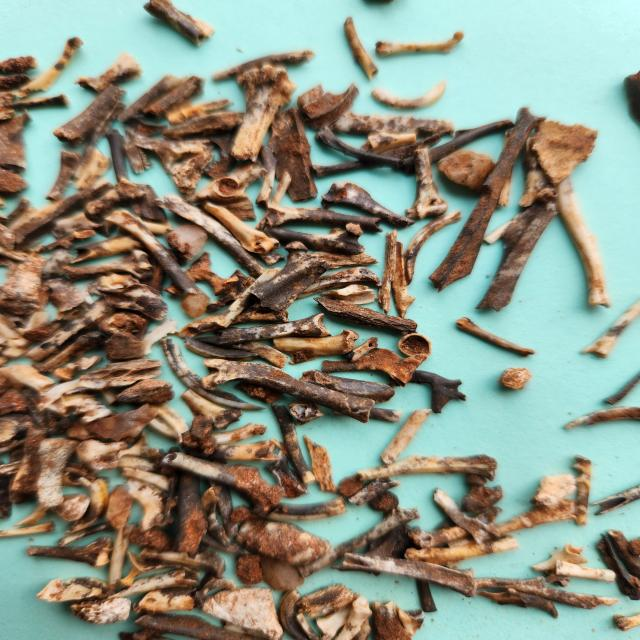fossil: (424, 99, 544, 299), (199, 356, 379, 426), (476, 187, 562, 316), (550, 169, 623, 313), (152, 192, 268, 278), (294, 503, 425, 579), (159, 447, 283, 518), (102, 207, 200, 295), (159, 336, 269, 412), (392, 116, 518, 177), (0, 362, 121, 423), (308, 127, 452, 178), (245, 239, 336, 318), (443, 497, 580, 549), (229, 62, 298, 162), (10, 177, 114, 243), (38, 357, 166, 410), (23, 296, 122, 364), (189, 414, 244, 536), (341, 551, 477, 597), (467, 575, 624, 611), (526, 114, 602, 186), (264, 105, 318, 203), (314, 123, 418, 173), (197, 583, 288, 640), (328, 520, 418, 577), (314, 346, 432, 389), (238, 516, 334, 568), (10, 34, 88, 98), (320, 180, 417, 231), (402, 208, 465, 286), (311, 293, 420, 338), (351, 452, 504, 484), (427, 485, 504, 546), (71, 100, 128, 182), (51, 83, 126, 145), (175, 425, 209, 561), (212, 311, 332, 348), (576, 292, 640, 361), (213, 266, 283, 328), (133, 607, 264, 640), (405, 505, 502, 549), (83, 272, 168, 322), (180, 158, 272, 204), (114, 71, 193, 124), (138, 0, 220, 51), (210, 47, 318, 85), (265, 201, 389, 234), (172, 307, 292, 341), (157, 252, 242, 300), (263, 221, 373, 258), (324, 110, 461, 139), (83, 400, 162, 450), (206, 200, 280, 253), (454, 315, 538, 361), (270, 401, 316, 485), (130, 132, 214, 178), (295, 368, 399, 405), (400, 147, 450, 223), (0, 249, 54, 319), (195, 483, 246, 557), (6, 424, 52, 506), (401, 367, 476, 417), (32, 433, 80, 510), (182, 334, 288, 368), (18, 296, 96, 342), (115, 549, 204, 589), (402, 534, 527, 562), (272, 327, 361, 366), (593, 530, 640, 603), (60, 248, 155, 284), (379, 407, 435, 468), (435, 144, 498, 198), (102, 569, 202, 603), (24, 534, 118, 570), (35, 328, 108, 374), (75, 49, 146, 96), (367, 76, 453, 114), (339, 12, 384, 84), (300, 79, 362, 131), (290, 265, 382, 300), (139, 544, 228, 580), (139, 74, 207, 121), (124, 476, 179, 534), (258, 491, 352, 524), (372, 30, 468, 62), (20, 382, 75, 436), (251, 169, 294, 238), (177, 386, 241, 432), (159, 110, 251, 142), (474, 587, 560, 621), (0, 306, 49, 364), (63, 474, 109, 535), (515, 129, 550, 209), (67, 231, 147, 266), (104, 520, 140, 597), (293, 582, 362, 619), (277, 584, 322, 640), (203, 268, 256, 314), (166, 154, 214, 204), (559, 405, 640, 434), (130, 584, 199, 618), (567, 451, 597, 529), (82, 179, 142, 218), (454, 472, 508, 515), (66, 594, 134, 628), (528, 468, 582, 510), (302, 433, 339, 494), (143, 401, 194, 445), (199, 127, 238, 184), (125, 179, 172, 226), (0, 110, 35, 173), (30, 574, 108, 602), (102, 479, 140, 536), (393, 240, 419, 322), (184, 334, 260, 362), (213, 436, 286, 465), (527, 540, 591, 573), (346, 474, 404, 510), (376, 222, 398, 316), (331, 397, 404, 425), (258, 552, 309, 592), (44, 148, 81, 203), (334, 590, 374, 640), (165, 221, 210, 264), (369, 598, 415, 640), (166, 97, 235, 125), (478, 212, 533, 247), (74, 145, 114, 193), (10, 491, 58, 530), (160, 444, 183, 525), (301, 246, 382, 269), (115, 376, 177, 406), (586, 484, 640, 518), (40, 276, 92, 311), (106, 124, 134, 189), (71, 438, 124, 472), (267, 458, 312, 498), (49, 210, 107, 241), (0, 89, 71, 114), (316, 598, 357, 640), (187, 572, 237, 606), (605, 526, 640, 574), (234, 376, 290, 406), (29, 229, 98, 253), (193, 198, 256, 224), (96, 310, 152, 339), (208, 420, 270, 446), (136, 317, 179, 354), (45, 490, 93, 523), (554, 559, 617, 584), (102, 328, 148, 362), (56, 520, 116, 546), (254, 143, 278, 208), (599, 369, 640, 407), (314, 283, 378, 307), (619, 65, 640, 138), (115, 430, 166, 460), (121, 134, 155, 179), (36, 246, 77, 283), (119, 465, 178, 490), (229, 552, 268, 589), (126, 523, 177, 551), (357, 131, 419, 154), (116, 114, 170, 140), (51, 354, 103, 380), (0, 520, 61, 542), (413, 573, 444, 615), (0, 410, 37, 444), (394, 332, 437, 360), (344, 335, 384, 364), (360, 488, 404, 514), (495, 154, 516, 208), (393, 602, 427, 635), (111, 450, 162, 472), (495, 366, 535, 394), (131, 216, 179, 238), (180, 286, 214, 317), (288, 400, 325, 427), (0, 90, 32, 121), (0, 196, 30, 229), (20, 388, 45, 427), (293, 608, 323, 640), (296, 80, 328, 110), (0, 52, 44, 73), (0, 167, 34, 194), (540, 566, 577, 588), (0, 386, 28, 415), (336, 470, 365, 497), (611, 609, 640, 635), (227, 500, 258, 524), (0, 433, 36, 453), (0, 73, 44, 89), (254, 246, 287, 267), (0, 241, 31, 260), (353, 614, 375, 640), (0, 221, 18, 252), (0, 456, 28, 474), (99, 384, 119, 406), (623, 535, 640, 559)
